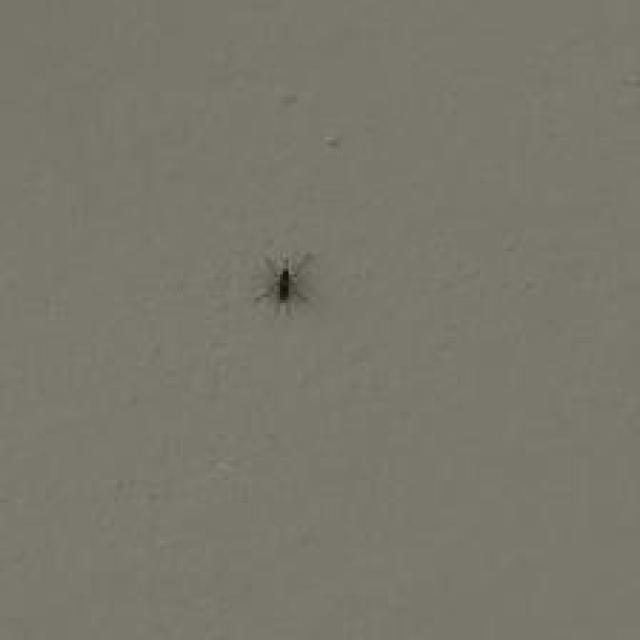Culex: (253, 252, 316, 317)
